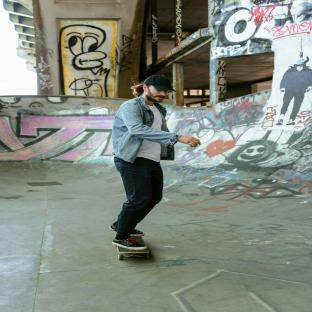Human: (110, 75, 200, 250)
